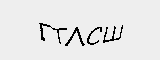Г: (39, 22, 51, 43)
Л: (64, 26, 87, 45)
С: (86, 25, 103, 47)
Т: (51, 24, 66, 45)
Ш: (104, 24, 127, 44)
